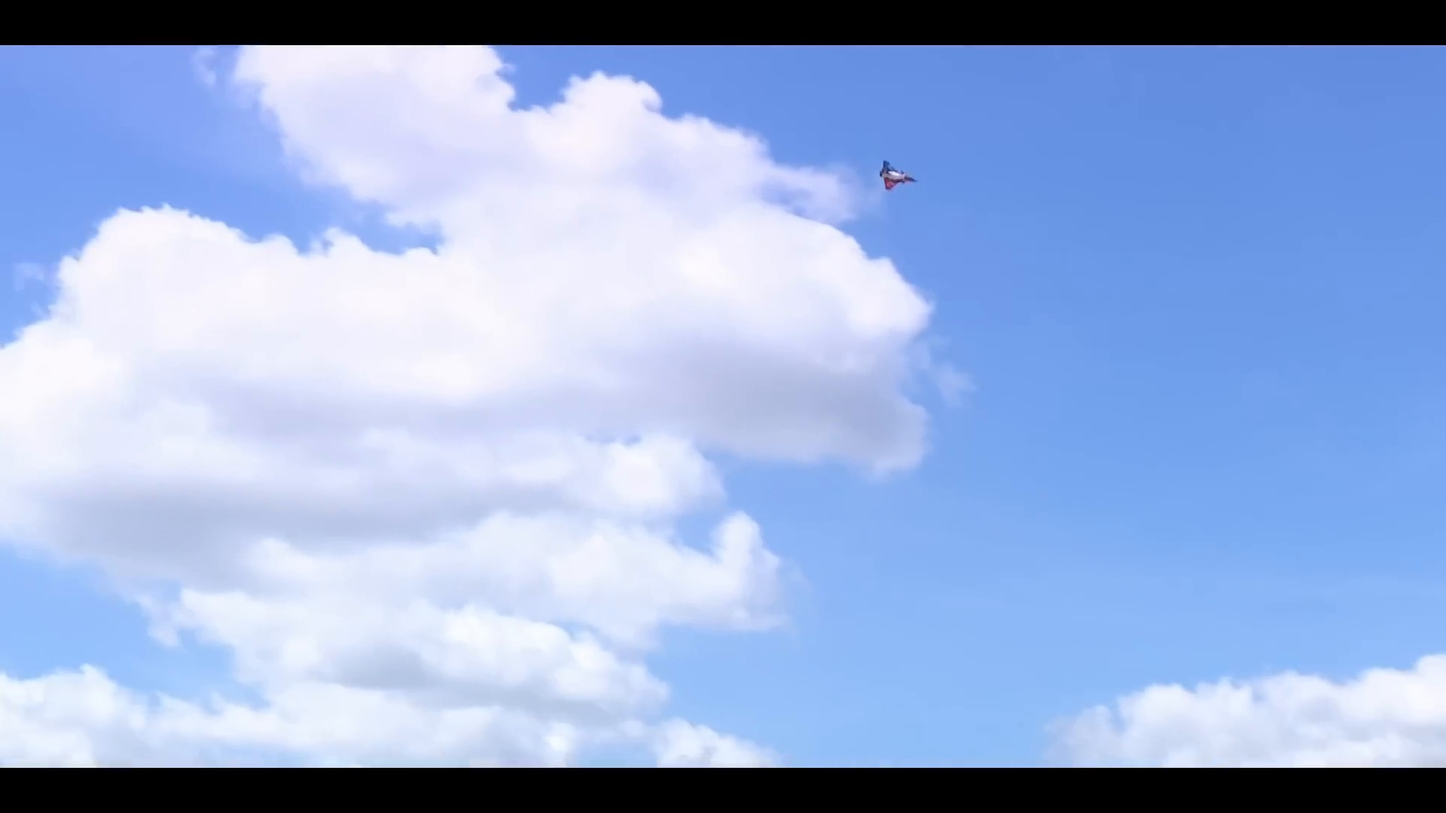Rafale: (876, 149, 919, 198)
